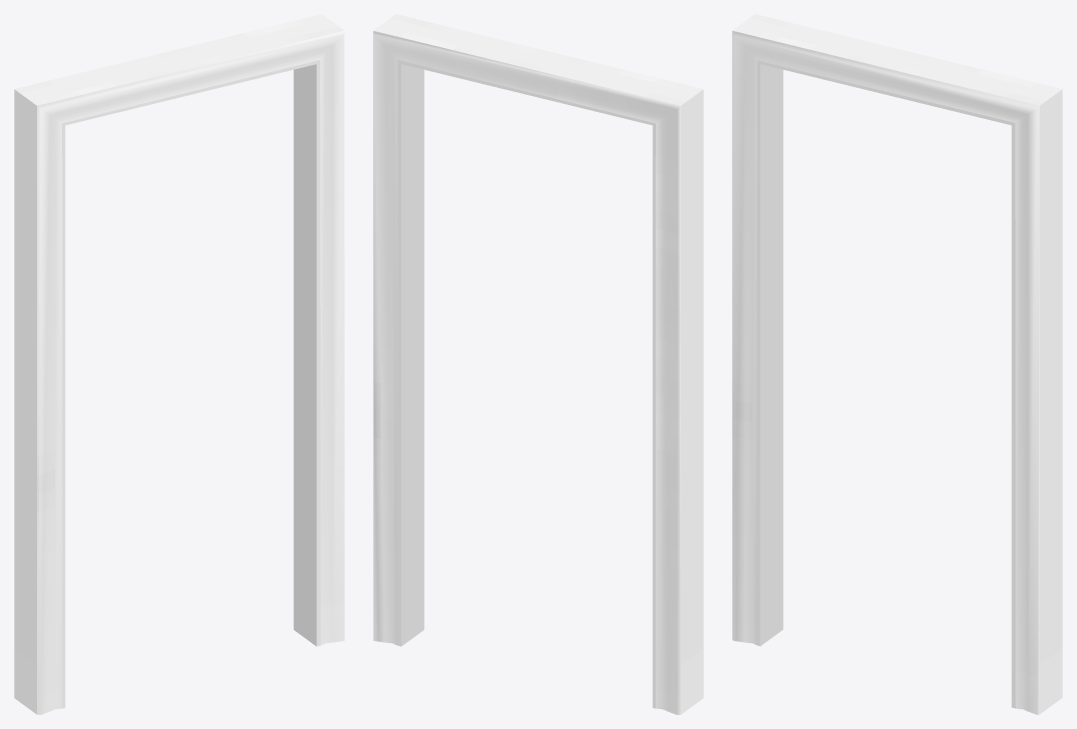
The model's file is DoorFrames.glb.
3 renders of one model, left to right at view 1: azimuth 30°, elevation 25°; view 2: azimuth 150°, elevation 25°; view 3: azimuth 330°, elevation 25°, orthographic.
Visible parts, largest first — view 1: DoorFrames; view 2: DoorFrames; view 3: DoorFrames.
Boxes of the visible parts, box(x1,y1,x2,y2) form: DoorFrames: box(14, 14, 344, 714); DoorFrames: box(373, 14, 703, 714); DoorFrames: box(732, 14, 1062, 714).
Size of the model in its own units: 1.12 by 2.13 by 0.1593.
Materials: 1 (1 with a texture image).
